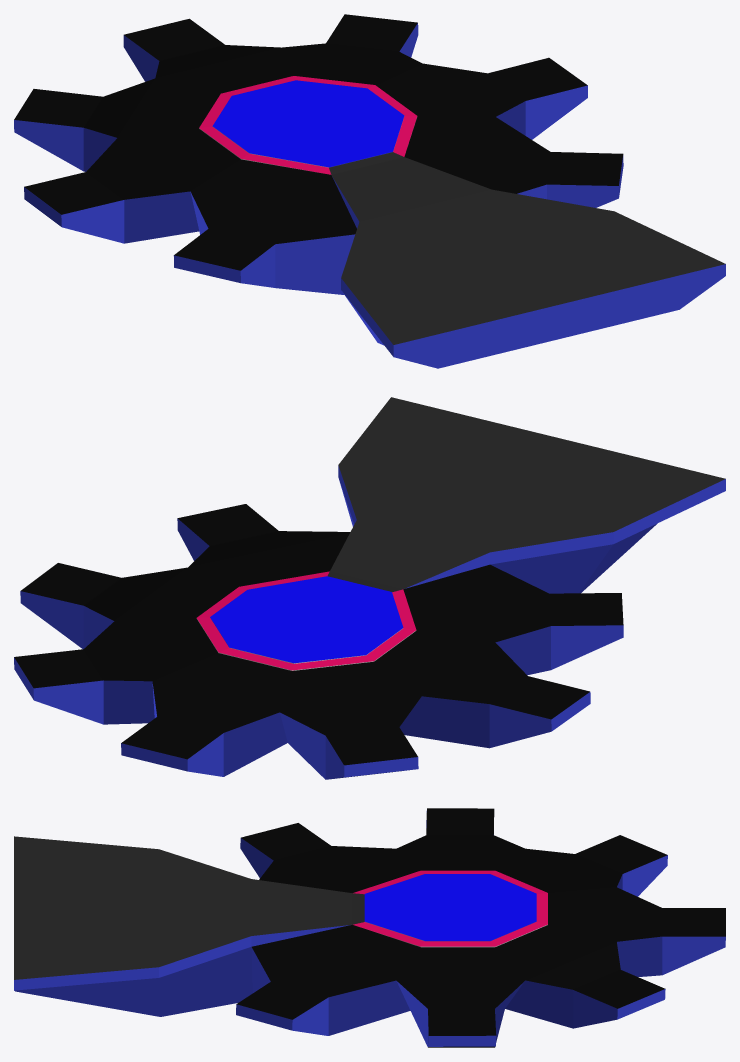
The model's file is MainFioorVer4.fbx.
The picture shows the model from 3 angles, top to bottom: view 1: azimuth 30°, elevation 25°; view 2: azimuth 150°, elevation 25°; view 3: azimuth 270°, elevation 25°; orthographic projection. The views are drawn at different scales.
Parts seen in each view (by area): view 1: MainFloor_ver3; view 2: MainFloor_ver3; view 3: MainFloor_ver3.
Boxes of the visible parts, box(x1,y1,x2,y2) form: MainFloor_ver3: box(14, 14, 725, 368); MainFloor_ver3: box(14, 397, 725, 779); MainFloor_ver3: box(14, 808, 725, 1047).
Size of the model in its own units: 479 by 71.7 by 633.
